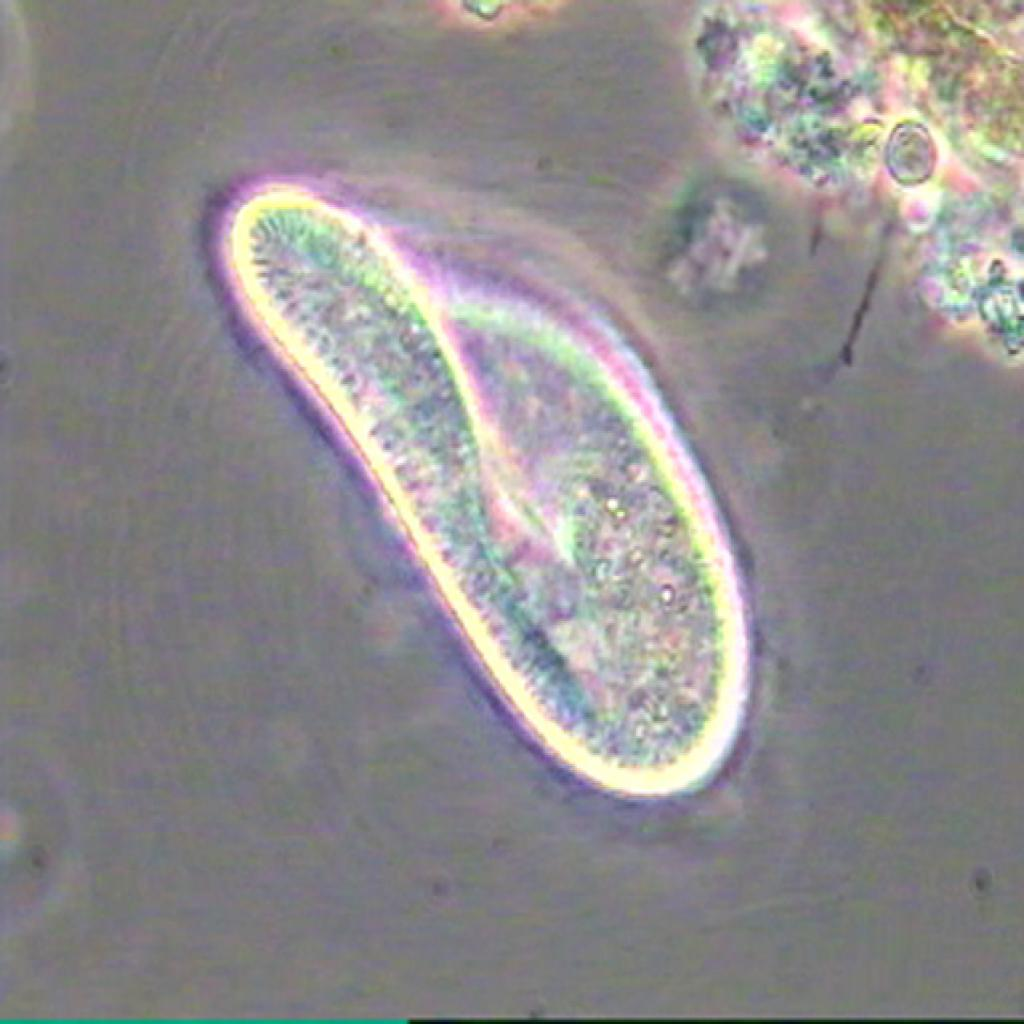Paramecium: (164, 132, 789, 896)
